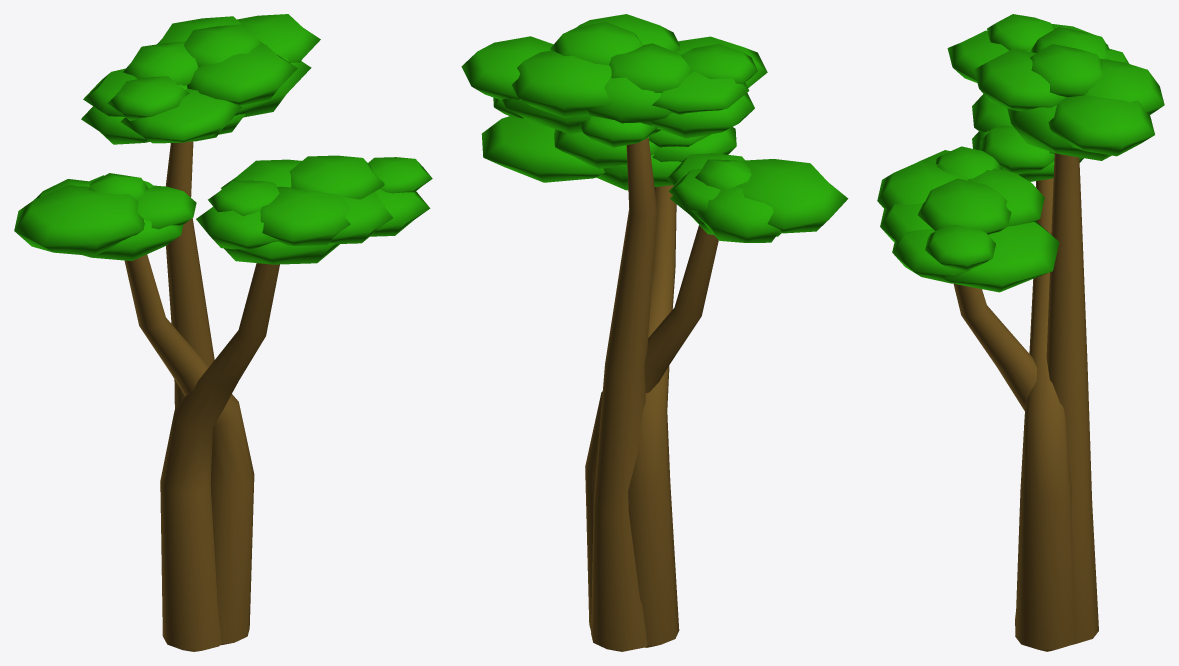
File: SM_BraidTree_Jungle.fbx
3 renders of one model, left to right at view 1: azimuth 30°, elevation 25°; view 2: azimuth 150°, elevation 25°; view 3: azimuth 270°, elevation 25°, orthographic.
Visible parts, largest first — view 1: pCube112, pCylinder13, pCylinder12, pCylinder10; view 2: pCube112, pCylinder10, pCylinder13, pCylinder12; view 3: pCube112, pCylinder12, pCylinder10, pCylinder13.
Part boxes in pixels (x1=…): pCube112: x1=14, y1=14, x2=432, y2=264; pCylinder13: x1=160, y1=263, x2=279, y2=651; pCylinder12: x1=124, y1=254, x2=254, y2=645; pCylinder10: x1=165, y1=141, x2=214, y2=408; pCube112: x1=461, y1=14, x2=848, y2=242; pCylinder10: x1=591, y1=138, x2=657, y2=651; pCylinder13: x1=628, y1=185, x2=679, y2=647; pCylinder12: x1=585, y1=225, x2=718, y2=631; pCube112: x1=877, y1=14, x2=1164, y2=292; pCylinder12: x1=1015, y1=178, x2=1073, y2=651; pCylinder10: x1=1046, y1=153, x2=1098, y2=644; pCylinder13: x1=953, y1=283, x2=1037, y2=626.
Bounding box in the file's own units: 392 × 612 × 264.
